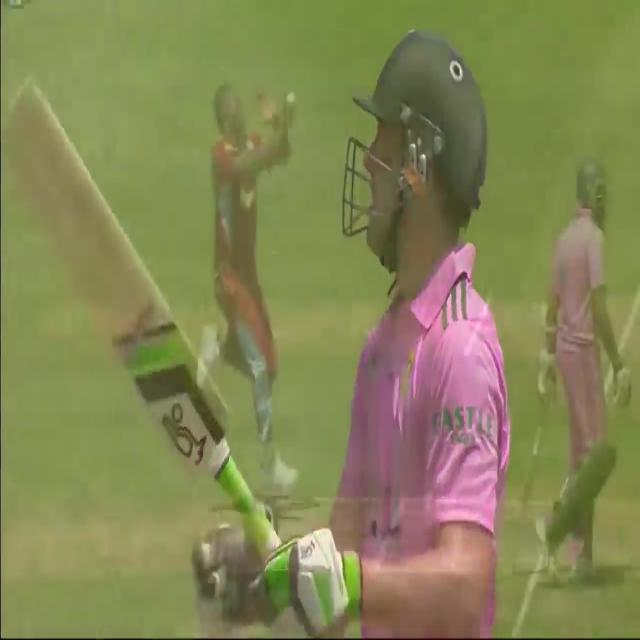Ball: (322, 2, 533, 627)
